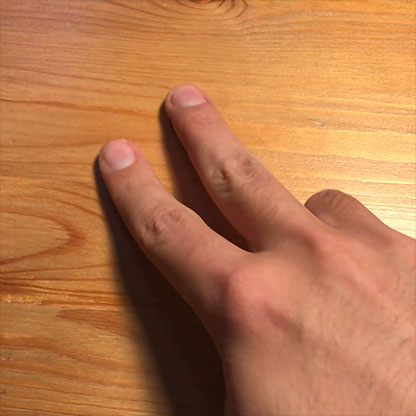fingertip: (93, 125, 141, 178), (166, 78, 217, 118)
